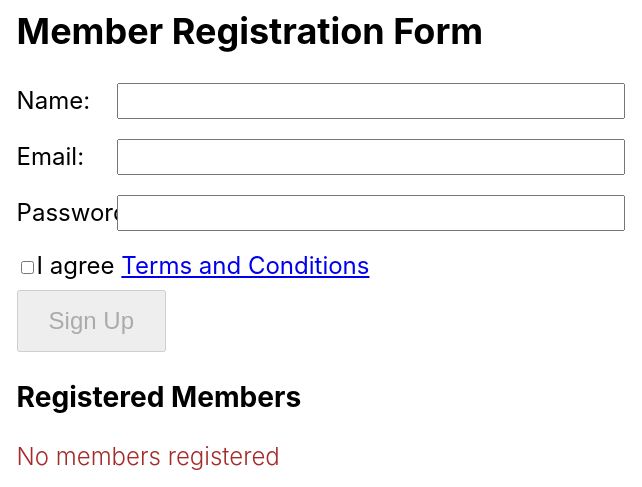
Member Registration Form Test › valid member values are shown and no error messages
The image size is (642, 487).
In the field named "name": (371, 101) [117,83,625,119], type "Dobby"
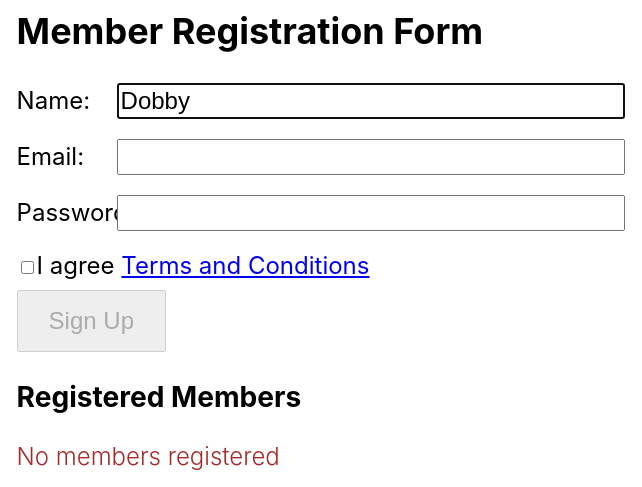
In the field named "email": (371, 157) [117,139,625,175], type "dobby@dobby.com"
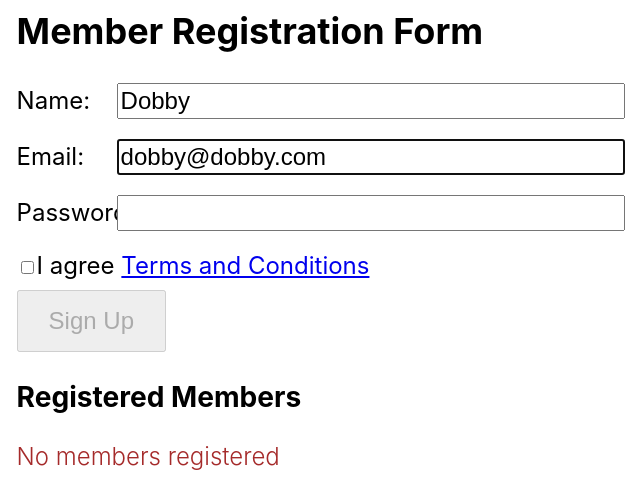
In the password field named "password": (371, 213) [117,195,625,231], type "Dobby.123"
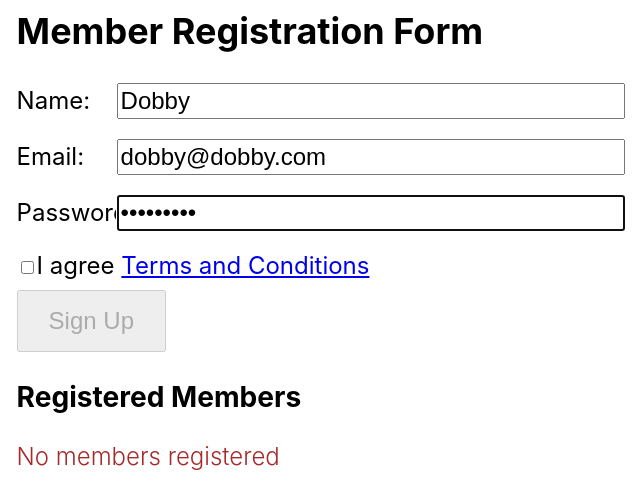
Check the checkbox named "terms": (28, 268) [21,261,34,274]
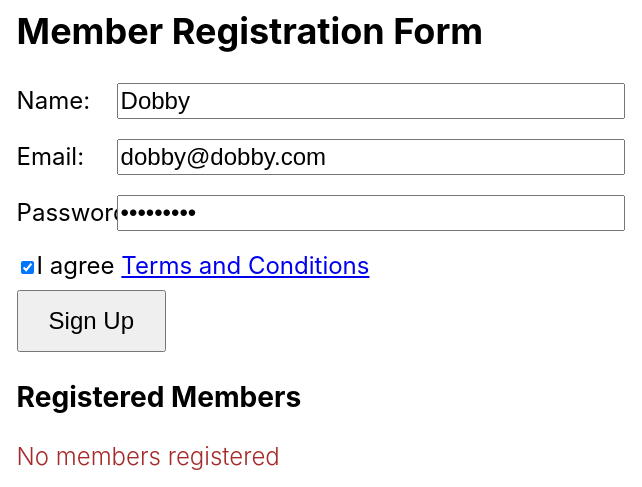
Expected: the checkbox named "terms" is checked, [21,261,34,274]
Expected: the submit button is enabled, [17,290,166,352]
